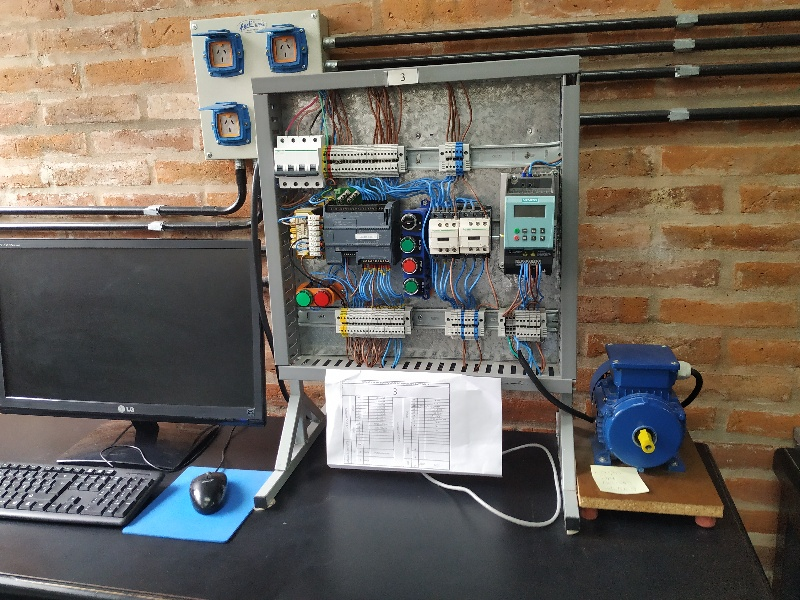Tablero 3: (261, 83, 570, 385)
